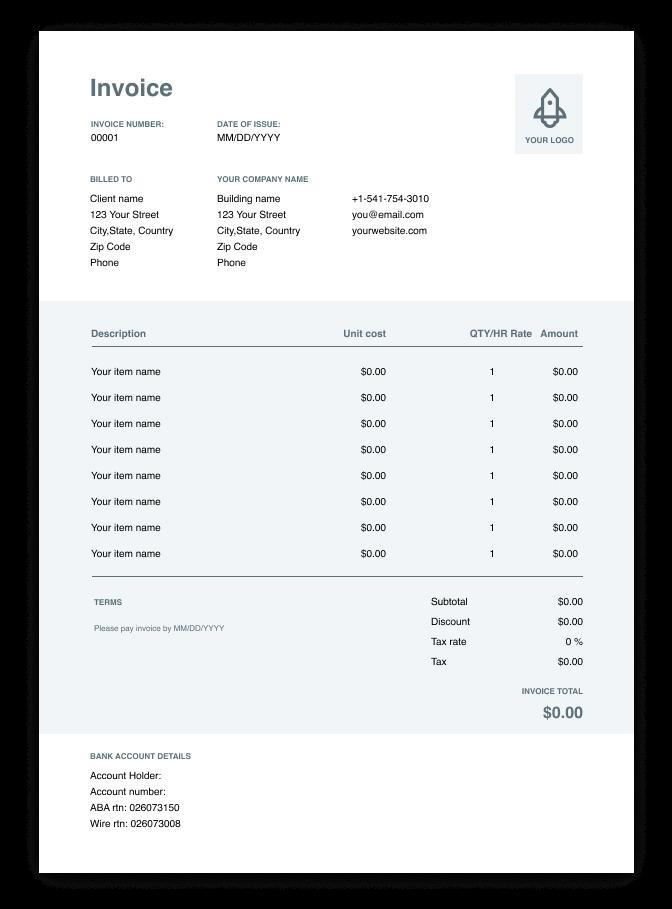ROI: (90, 327, 585, 577), (427, 593, 587, 723), (86, 745, 301, 838), (214, 171, 322, 271), (85, 174, 182, 274), (88, 116, 291, 151)
